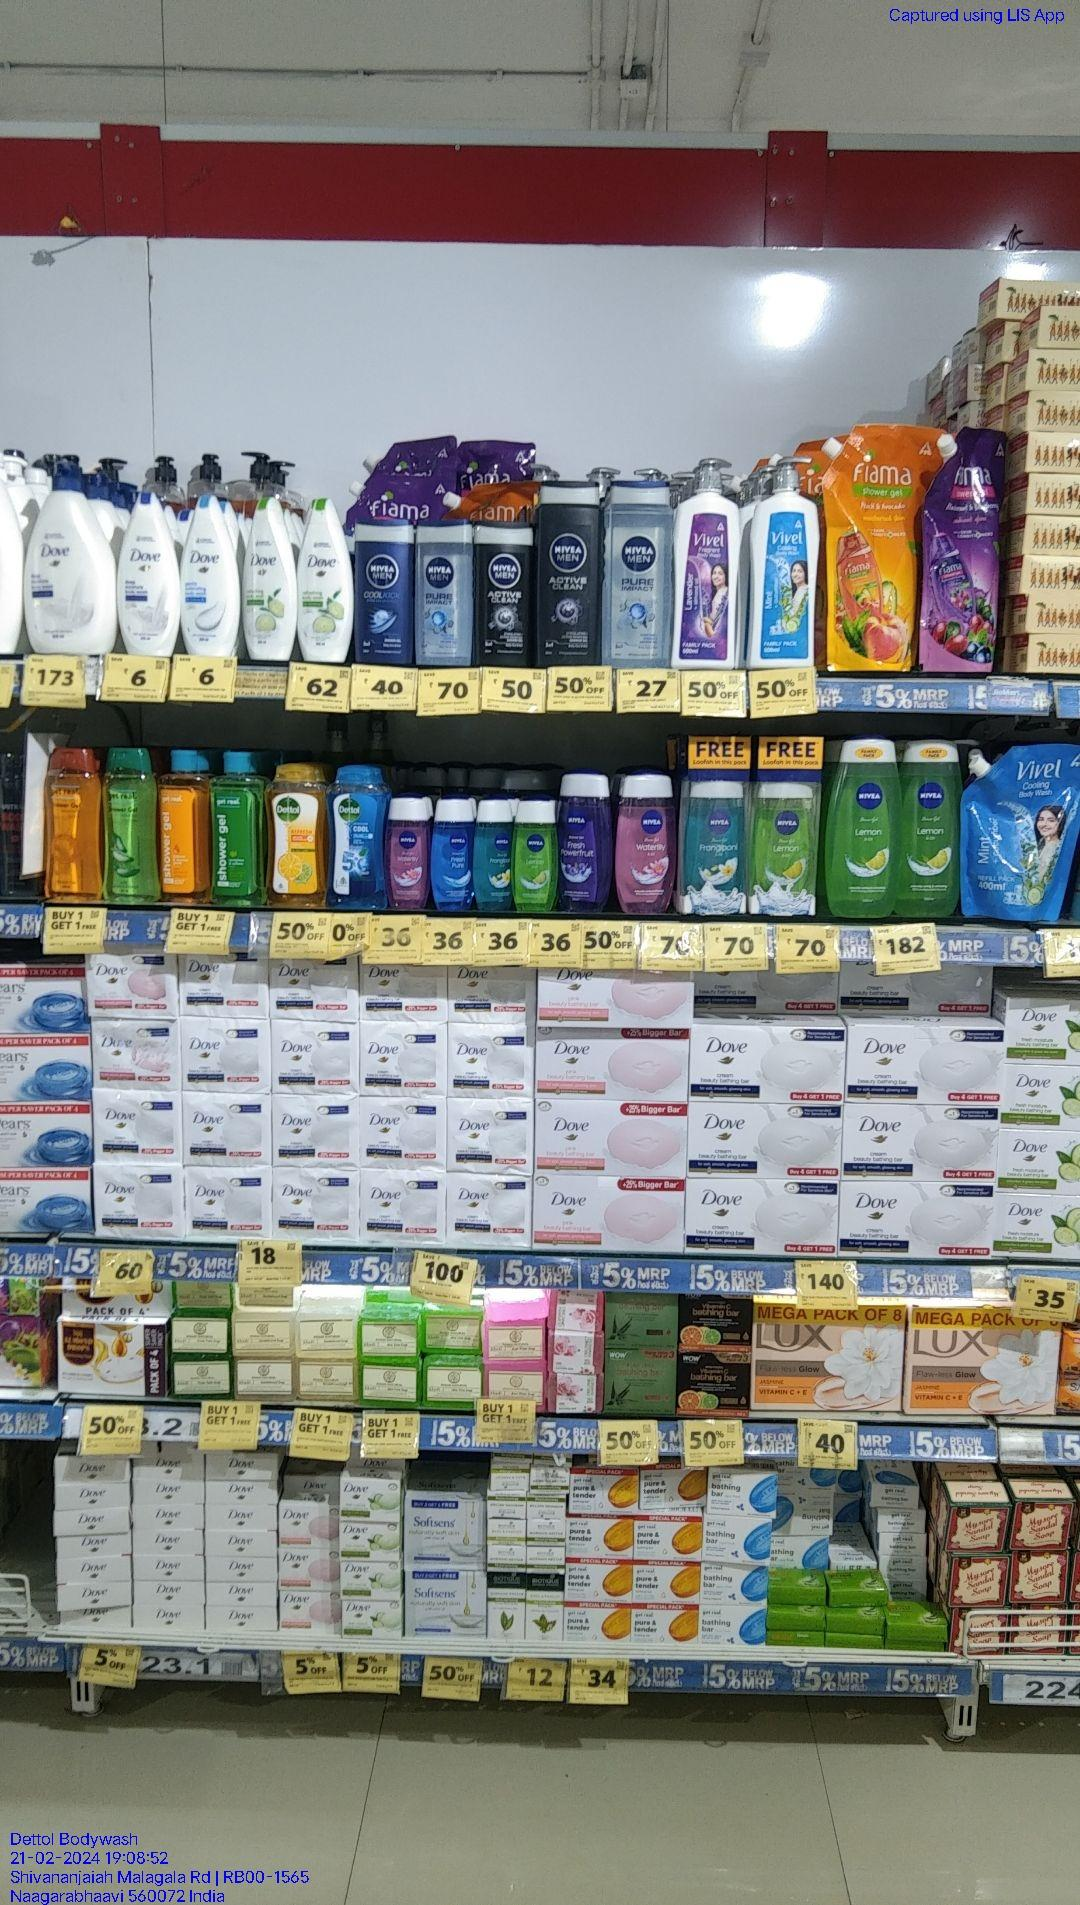Dettol_Bodywash_Cool: (329, 767, 384, 909)
Dettol_Bodywash_Refresh: (266, 763, 323, 905)
Dove_Deep_Moisture_Body_Wash_250ML: (117, 488, 181, 653)
Dove_Gentle_Exfoliating_Body_Wash_250ML: (186, 491, 240, 653)
Dove_Refreshing_Body_Wash_250ML: (298, 496, 353, 661), (246, 496, 295, 661)
Get_Real_Shower_Gel_Moisturising_Glycerin_300ML: (46, 747, 101, 900)
Nivea_Shower_Gel_Fresh_Powerfruit_250ML: (558, 769, 607, 913)
Nivea_Shower_Gel_Lemon_and_Oil_250ML: (825, 734, 891, 918), (902, 742, 961, 918)
Nivea_Shower_Gel_Waterlily_and_Oil_250ML: (617, 777, 674, 915)
